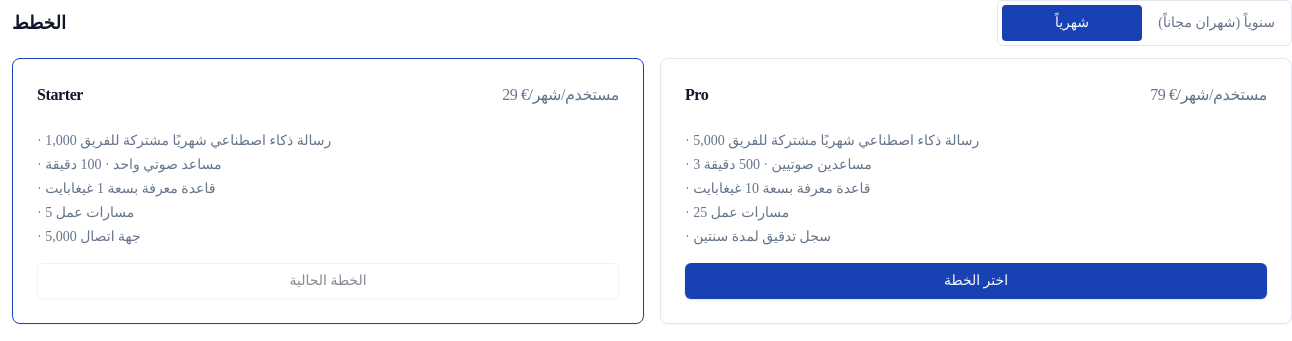
Test: PlanCards interval toggle (ar) › switching to annual keeps the same price rule and checkout arguments
What coordinates should you click on to do the following:
click the button "سنوياً (شهران مجاناً)"
I would click on:
 (1217, 23)
Its box is 1146,5 -> 1287,41.
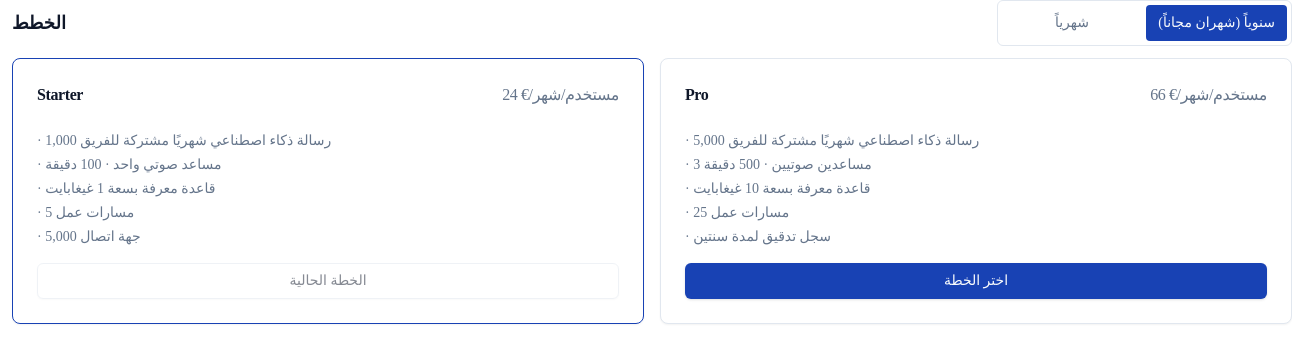
Expected: the text "24 €/مستخدم/شهر" is shown, 502,83 -> 619,107
Expected: the text "66 €/مستخدم/شهر" is shown, 1150,83 -> 1267,107
